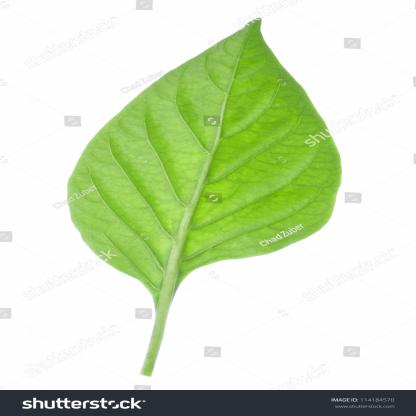Bell_pepper leaf: (63, 17, 345, 291)
